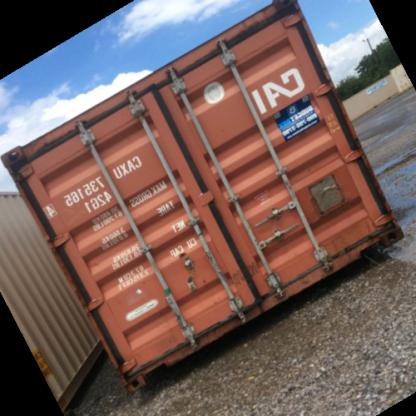Damage: (268, 231, 391, 280), (150, 309, 252, 363), (220, 255, 264, 283)
